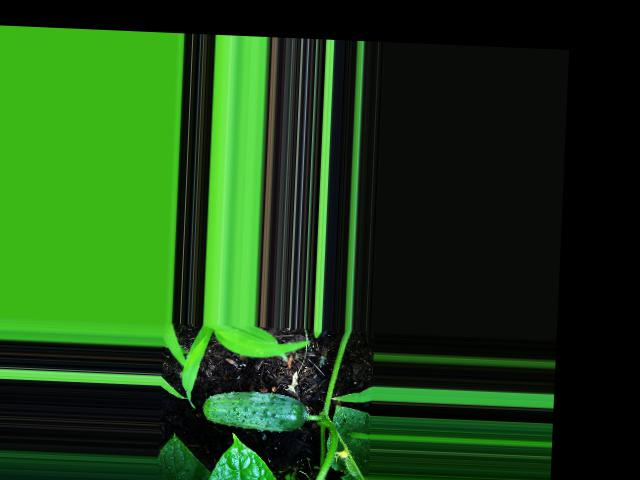cucumber: (200, 388, 308, 432)
